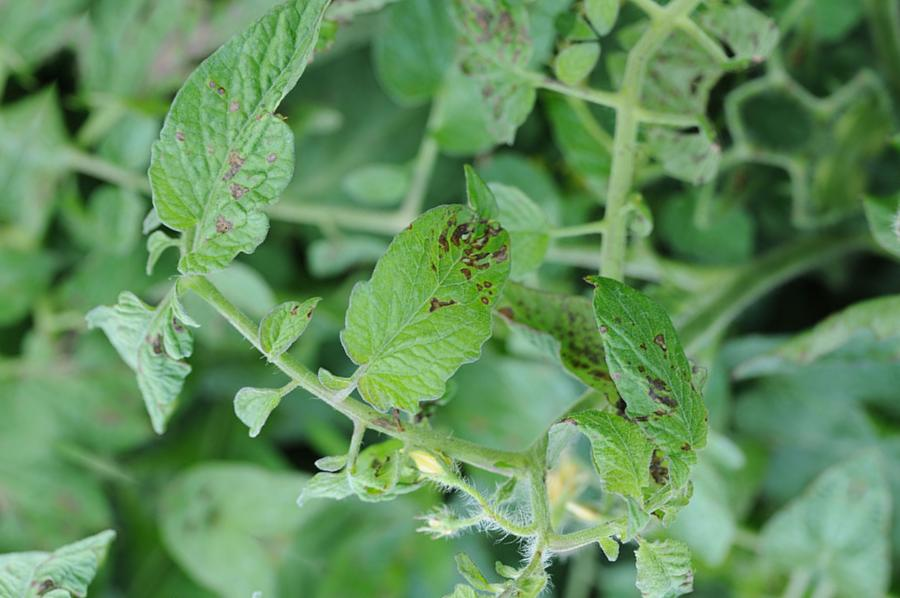Tomato leaf bacterial spot: (110, 0, 400, 288), (308, 140, 544, 435), (545, 259, 779, 511)
